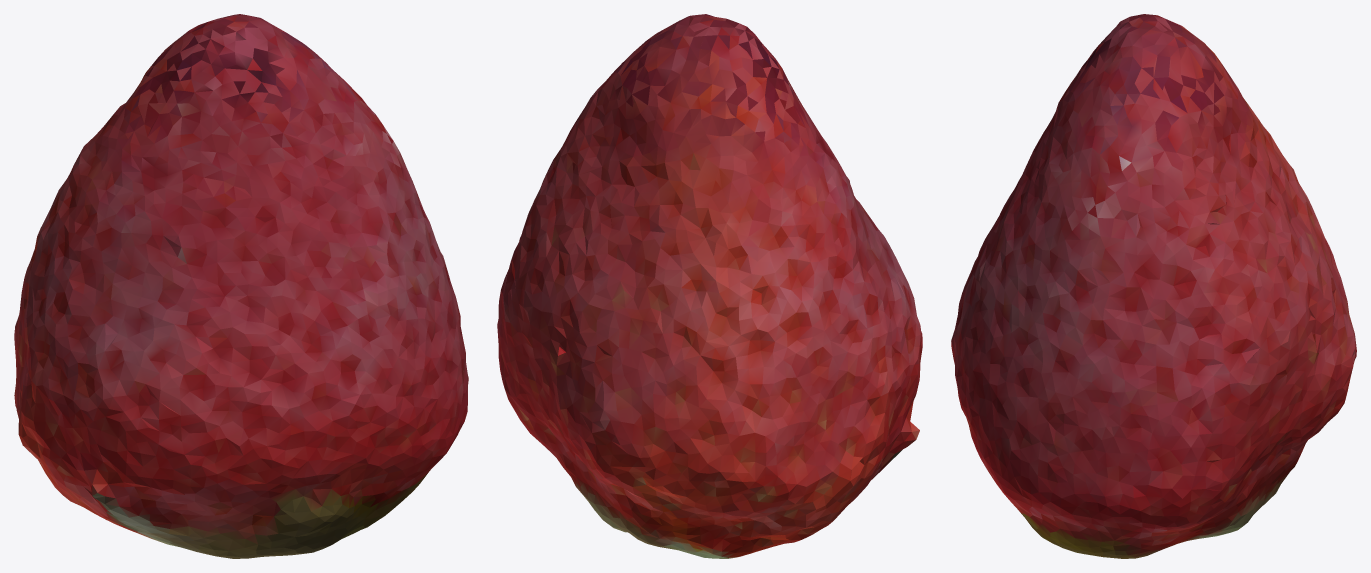
The picture shows the model from 3 angles, left to right: view 1: azimuth 30°, elevation 25°; view 2: azimuth 150°, elevation 25°; view 3: azimuth 270°, elevation 25°; orthographic projection. The views are drawn at different scales.
Visible parts, largest first — view 1: strawberry_01_visual; view 2: strawberry_01_visual; view 3: strawberry_01_visual.
Boxes of the visible parts, x1,y1,x2,y2 form: strawberry_01_visual: (14, 14, 468, 558); strawberry_01_visual: (497, 14, 922, 558); strawberry_01_visual: (951, 14, 1356, 558).
Bounding box in the file's own units: 0.8317 × 0.7602 × 1.05.
